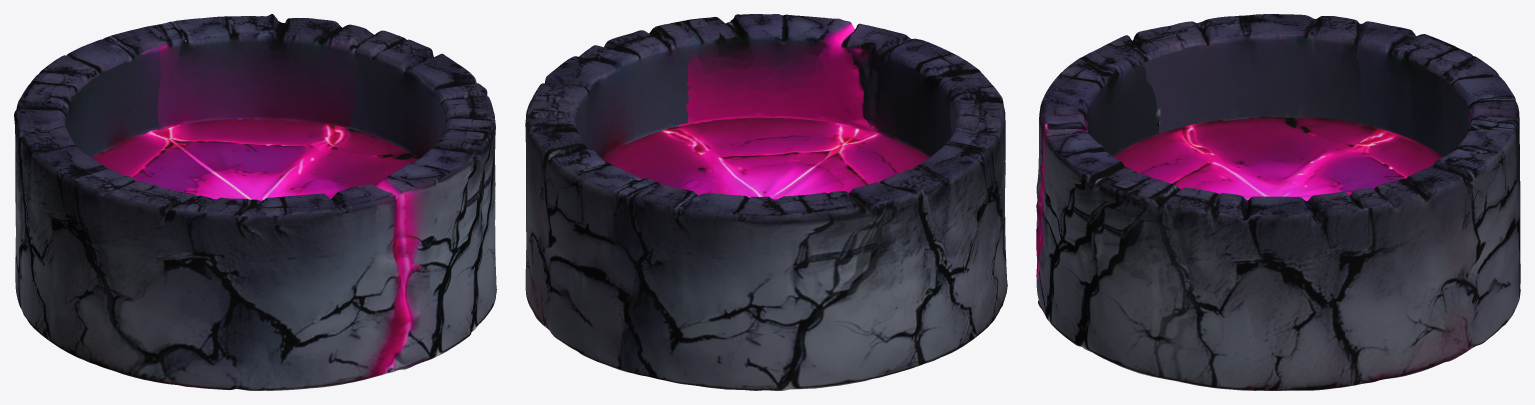
The model's file is hvergelmir-basin-pool-generated-2026-05-17T18-13-31-696Z.high.glb.
3 renders of one model, left to right at view 1: azimuth 30°, elevation 25°; view 2: azimuth 150°, elevation 25°; view 3: azimuth 270°, elevation 25°, orthographic.
Visible parts, largest first — view 1: temp_mesh.ply; view 2: temp_mesh.ply; view 3: temp_mesh.ply.
Boxes of the visible parts, <box> form: temp_mesh.ply: <box>14,14,496,390</box>; temp_mesh.ply: <box>525,14,1007,390</box>; temp_mesh.ply: <box>1036,14,1520,390</box>.
Bounding box in the file's own units: 1.97 × 0.8098 × 1.97.
Materials: 1 (1 with a texture image).
